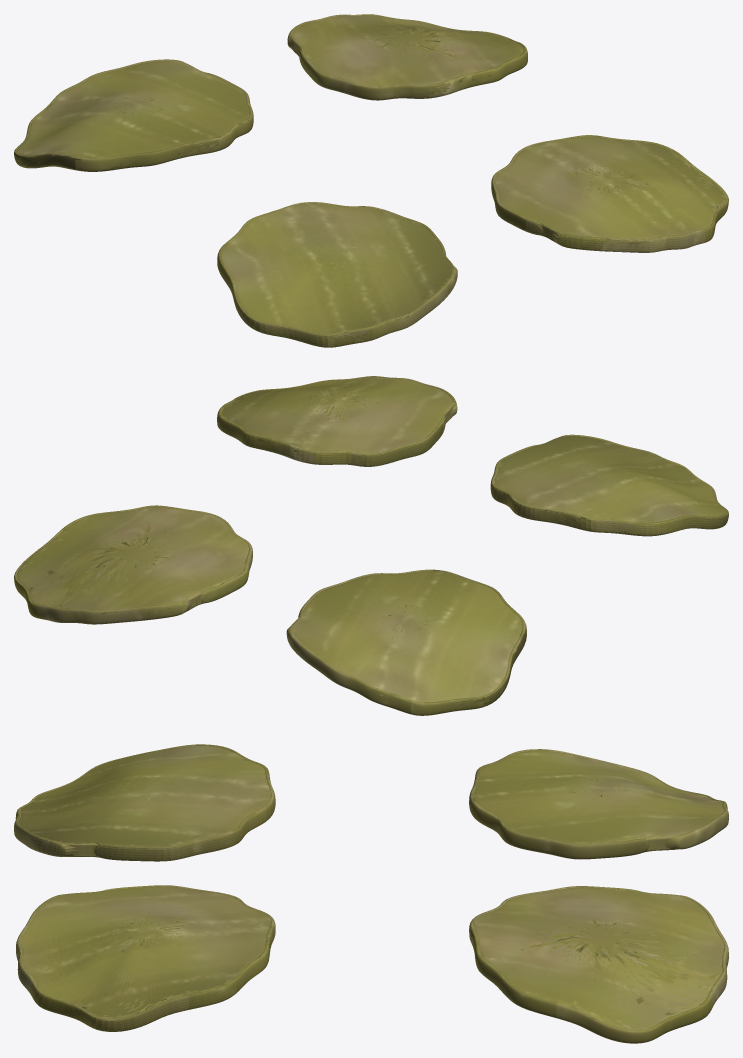
Rendered from pickle.obj.
3 views of the same model, one above another, from view 1: azimuth 30°, elevation 25°; view 2: azimuth 150°, elevation 25°; view 3: azimuth 270°, elevation 25° (orthographic). The views are drawn at different scales.
Visible parts, largest first — view 1: cornichon; view 2: cornichon; view 3: cornichon.
Boxes of the visible parts, x1,y1,x2,y2 form: cornichon: [14, 14, 728, 347]; cornichon: [14, 376, 728, 715]; cornichon: [14, 744, 728, 1043].
Bounding box in the file's own units: 1.7 × 0.1899 × 1.92.
1 material, 1 textured.
